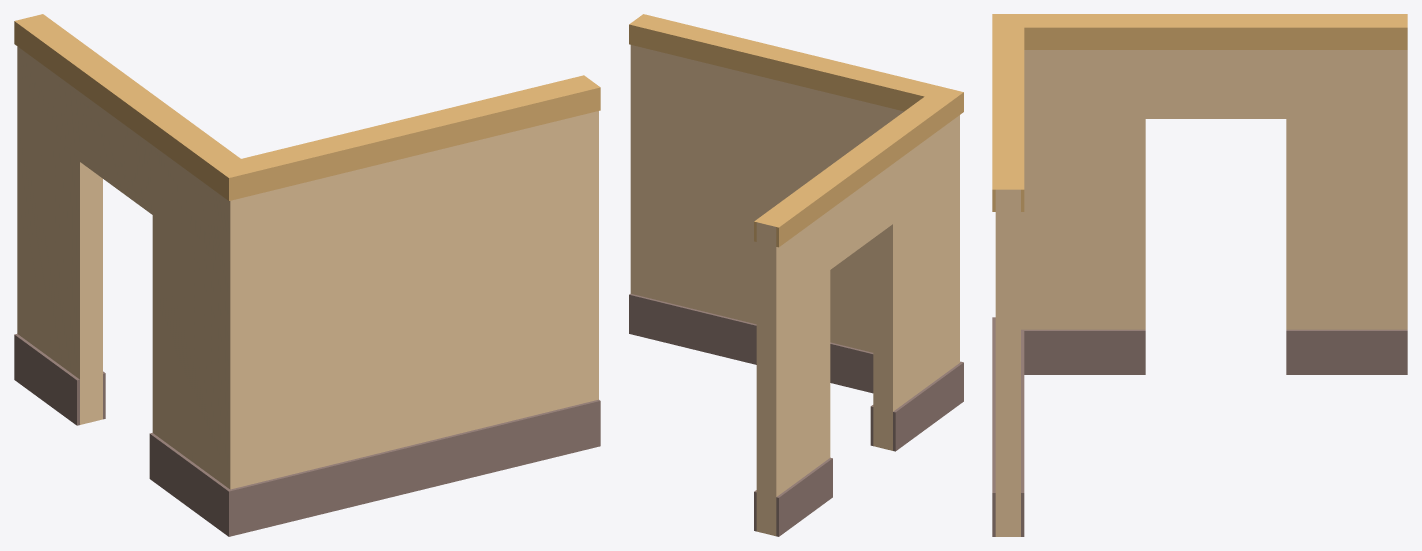
Rendered from Wall01-02.fbx.
The picture shows the model from 3 angles, left to right: view 1: azimuth 30°, elevation 25°; view 2: azimuth 150°, elevation 25°; view 3: azimuth 270°, elevation 25°; orthographic projection. The views are drawn at different scales.
Parts seen in each view (by area): view 1: Wall01-02; view 2: Wall01-02; view 3: Wall01-02.
Boxes of the visible parts, bbox=[...] form: Wall01-02: bbox=[14, 14, 600, 536]; Wall01-02: bbox=[629, 14, 963, 536]; Wall01-02: bbox=[992, 14, 1407, 536].
Size of the model in its own units: 3.25 by 3.25 by 3.
